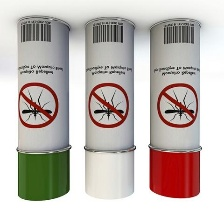aerosol_cans: (11, 13, 71, 203), (144, 15, 203, 202), (80, 13, 137, 202)
